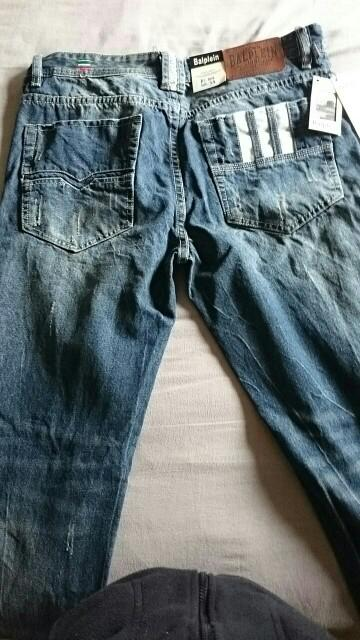jeans: (46, 35, 360, 553)
